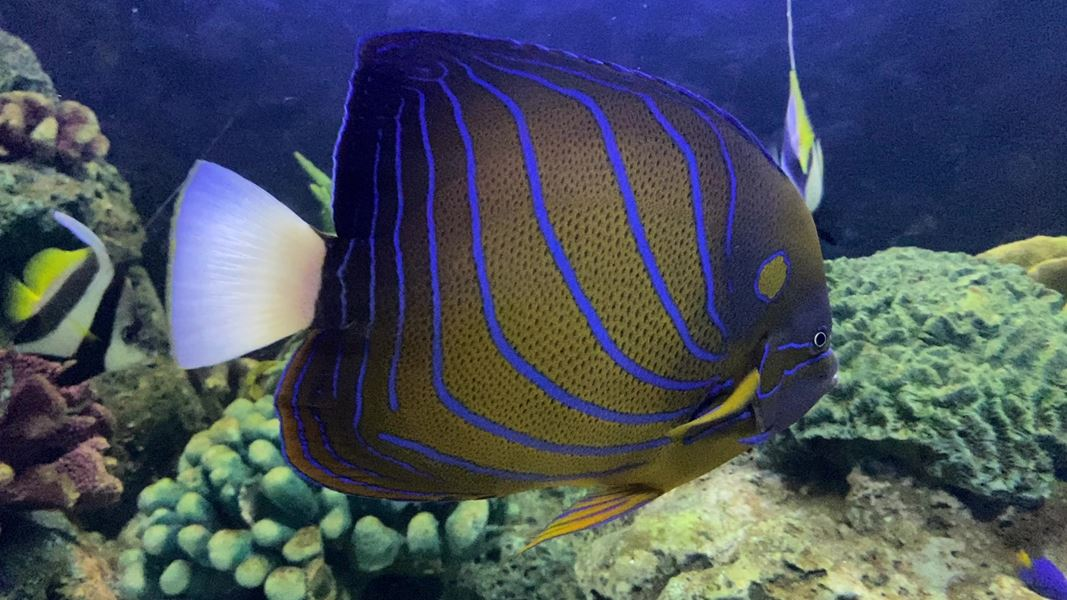Blue ring angelfish: (129, 10, 848, 588)
